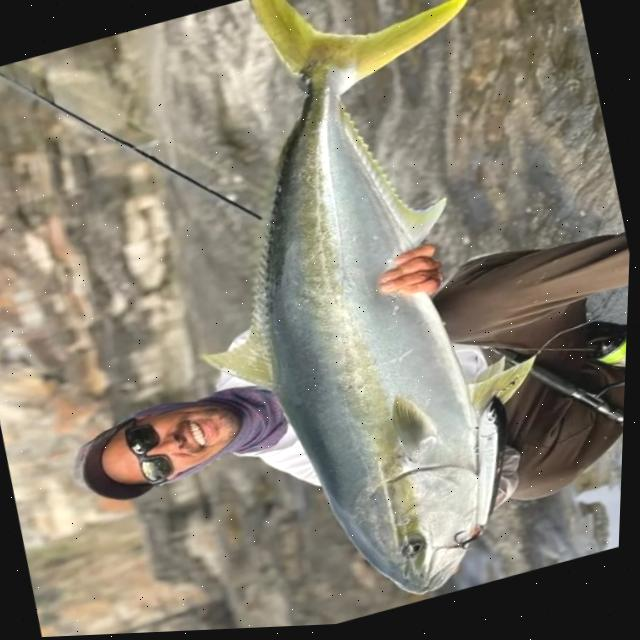Kingfish: (114, 0, 609, 635)
